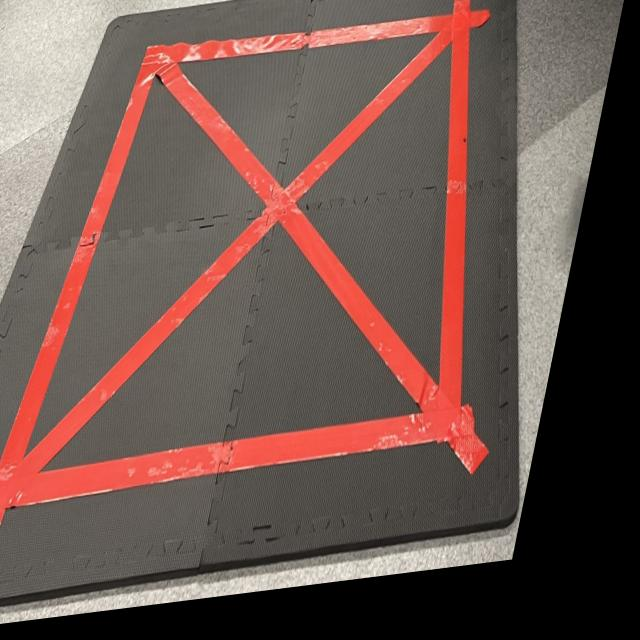landingPads: (0, 0, 632, 629)
